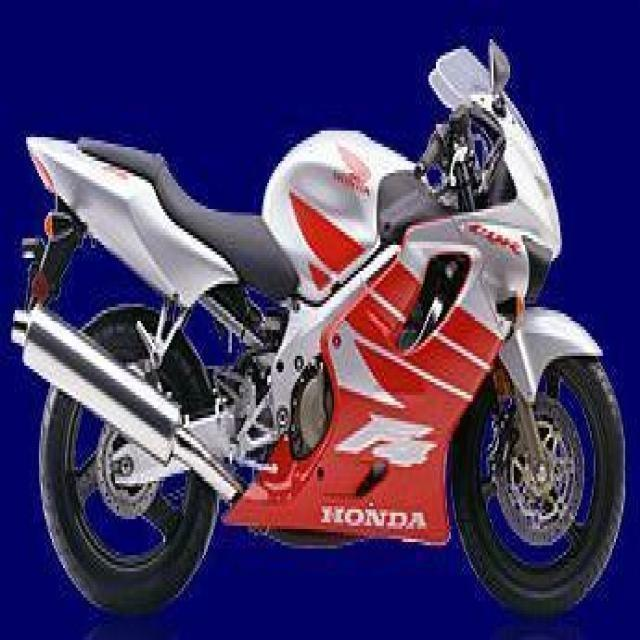Motorcycle: (11, 48, 635, 618)
